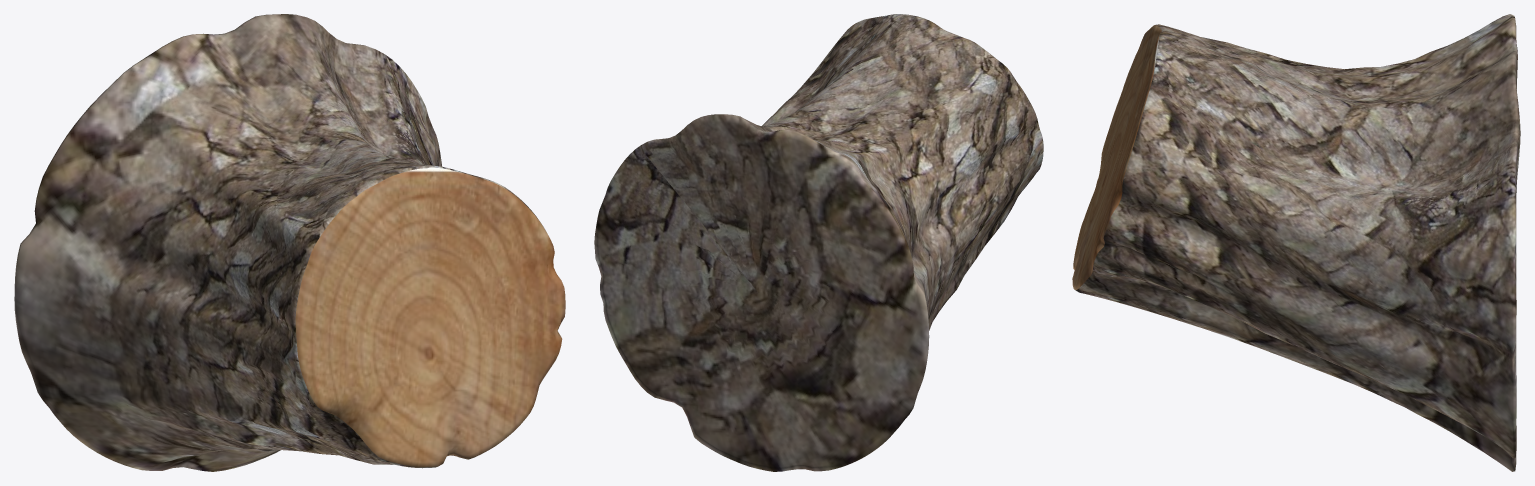
File: tree stomp sculpture.fbx
3 views of the same model, side by side, from view 1: azimuth 30°, elevation 25°; view 2: azimuth 150°, elevation 25°; view 3: azimuth 270°, elevation 25° (orthographic). The views are drawn at different scales.
Parts seen in each view (by area): view 1: tree_stomp; view 2: tree_stomp; view 3: tree_stomp.
Boxes of the visible parts, <box> form: tree_stomp: <box>14,14,565,471</box>; tree_stomp: <box>594,14,1043,471</box>; tree_stomp: <box>1072,14,1520,471</box>.
Bounding box in the file's own units: 2.87 × 2.85 × 2.82.
Materials: 1 (1 with a texture image).
